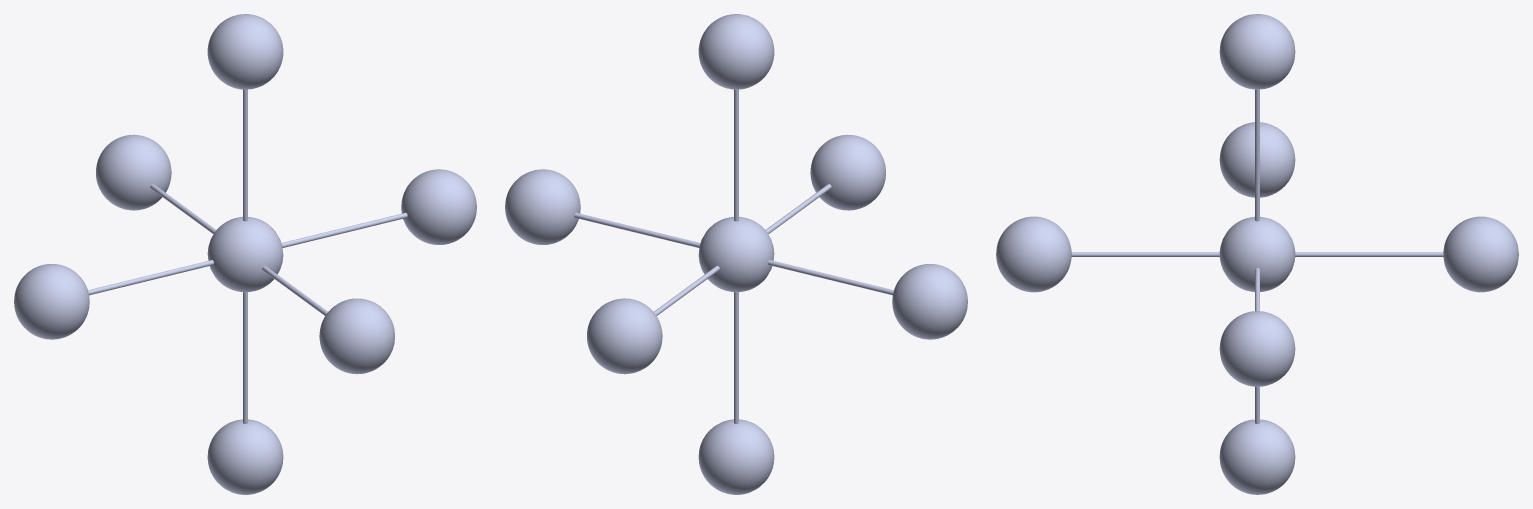
File: Octahedral.obj
3 renders of one model, left to right at view 1: azimuth 30°, elevation 25°; view 2: azimuth 150°, elevation 25°; view 3: azimuth 270°, elevation 25°, orthographic.
Parts seen in each view (by area): view 1: DirectConnectNode_44_DC_Shell, DirectConnectNode_90_DC_Shell, DirectConnectNode_2_DC_Shell, DirectConnectNode_38_DC_Shell, DirectConnectNode_24_DC_Shell, DirectConnectNode_68_DC_Shell, DirectConnectNode_53_DC_Shell, DirectConnectNode_75_DC_Shell, DirectConnectNode_9_DC_Shell, DirectConnectNode_61_DC_Shell, DirectConnectNode_83_DC_Shell; view 2: DirectConnectNode_44_DC_Shell, DirectConnectNode_90_DC_Shell, DirectConnectNode_68_DC_Shell, DirectConnectNode_38_DC_Shell, DirectConnectNode_24_DC_Shell, DirectConnectNode_2_DC_Shell, DirectConnectNode_53_DC_Shell, DirectConnectNode_75_DC_Shell, DirectConnectNode_9_DC_Shell, DirectConnectNode_61_DC_Shell, DirectConnectNode_83_DC_Shell; view 3: DirectConnectNode_2_DC_Shell, DirectConnectNode_68_DC_Shell, DirectConnectNode_24_DC_Shell, DirectConnectNode_44_DC_Shell, DirectConnectNode_38_DC_Shell, DirectConnectNode_53_DC_Shell, DirectConnectNode_90_DC_Shell, DirectConnectNode_17_DC_Shell, DirectConnectNode_31_DC_Shell, DirectConnectNode_61_DC_Shell.
Part boxes in pixels (box(x1,y1,x2,y2)): DirectConnectNode_44_DC_Shell: box(207, 14, 283, 89); DirectConnectNode_90_DC_Shell: box(14, 264, 89, 339); DirectConnectNode_2_DC_Shell: box(319, 298, 394, 374); DirectConnectNode_38_DC_Shell: box(207, 419, 283, 494); DirectConnectNode_24_DC_Shell: box(401, 169, 476, 244); DirectConnectNode_68_DC_Shell: box(96, 134, 171, 210); DirectConnectNode_53_DC_Shell: box(207, 217, 283, 292); DirectConnectNode_75_DC_Shell: box(281, 212, 407, 247); DirectConnectNode_9_DC_Shell: box(88, 260, 213, 295); DirectConnectNode_61_DC_Shell: box(243, 89, 247, 221); DirectConnectNode_83_DC_Shell: box(243, 292, 247, 423); DirectConnectNode_44_DC_Shell: box(698, 14, 774, 89); DirectConnectNode_90_DC_Shell: box(892, 264, 967, 339); DirectConnectNode_68_DC_Shell: box(587, 298, 662, 374); DirectConnectNode_38_DC_Shell: box(698, 419, 774, 494); DirectConnectNode_24_DC_Shell: box(505, 169, 580, 244); DirectConnectNode_2_DC_Shell: box(810, 134, 885, 210); DirectConnectNode_53_DC_Shell: box(698, 217, 774, 292); DirectConnectNode_75_DC_Shell: box(574, 212, 700, 247); DirectConnectNode_9_DC_Shell: box(768, 260, 893, 295); DirectConnectNode_61_DC_Shell: box(734, 89, 738, 221); DirectConnectNode_83_DC_Shell: box(734, 292, 738, 423); DirectConnectNode_2_DC_Shell: box(996, 216, 1071, 292); DirectConnectNode_68_DC_Shell: box(1443, 216, 1518, 292); DirectConnectNode_24_DC_Shell: box(1219, 311, 1295, 386); DirectConnectNode_44_DC_Shell: box(1219, 14, 1295, 89); DirectConnectNode_38_DC_Shell: box(1219, 419, 1295, 494); DirectConnectNode_53_DC_Shell: box(1219, 216, 1295, 291); DirectConnectNode_90_DC_Shell: box(1219, 122, 1295, 197); DirectConnectNode_17_DC_Shell: box(1071, 252, 1219, 256); DirectConnectNode_31_DC_Shell: box(1295, 252, 1443, 256); DirectConnectNode_61_DC_Shell: box(1255, 89, 1259, 221).
Bounding box in the file's own units: 13.8 × 13.8 × 13.8.
